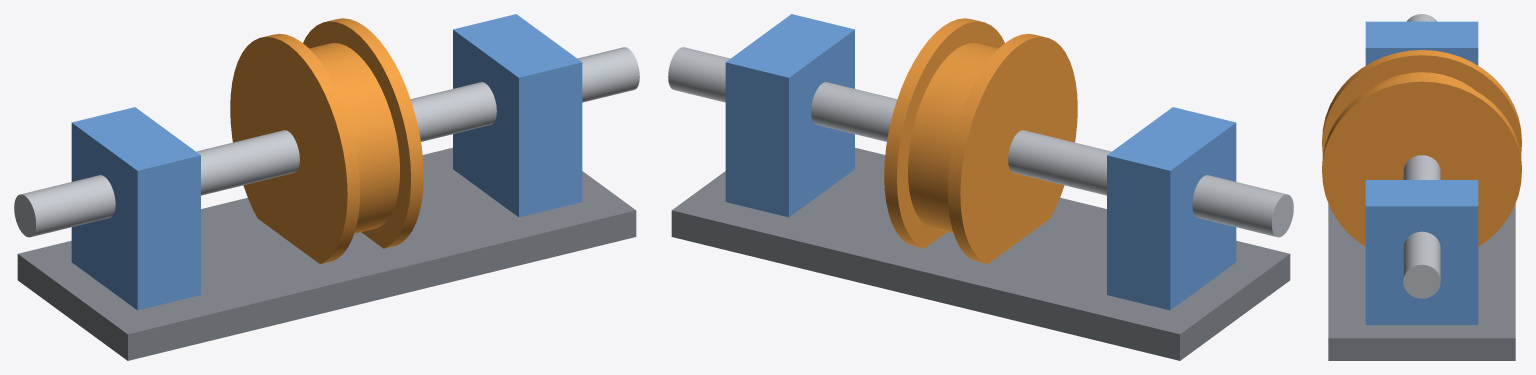
The model's file is pillow-block-assembly.glb.
The picture shows the model from 3 angles, left to right: view 1: azimuth 30°, elevation 25°; view 2: azimuth 150°, elevation 25°; view 3: azimuth 270°, elevation 25°; orthographic projection. The views are drawn at different scales.
Parts seen in each view (by area): view 1: Base Plate, Pillow Blocks, Pulley, Shaft; view 2: Base Plate, Pillow Blocks, Pulley, Shaft; view 3: Pulley, Pillow Blocks, Base Plate, Shaft.
Part boxes in pixels (x1,y1,x2,y2): Base Plate: (17,147,636,360); Pillow Blocks: (71,14,582,310); Pulley: (230,18,423,264); Shaft: (14,47,639,237); Base Plate: (671,147,1290,360); Pillow Blocks: (725,14,1236,310); Pulley: (884,18,1077,264); Shaft: (668,47,1293,237); Pulley: (1322,50,1521,246); Pillow Blocks: (1365,21,1478,324); Base Plate: (1328,204,1515,360); Shaft: (1403,14,1440,298).
Bounding box in the file's own units: 0.19 × 0.067 × 0.064.
